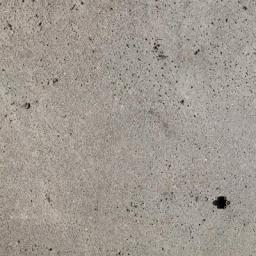FOD: (212, 192, 233, 215)
